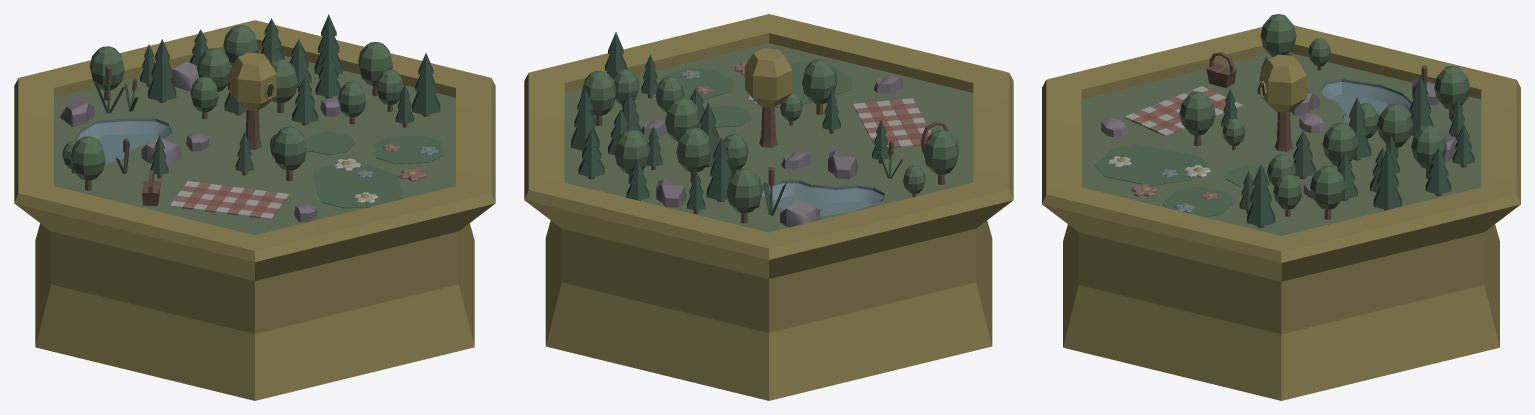
The model's file is WarTable.fbx.
The picture shows the model from 3 angles, left to right: view 1: azimuth 30°, elevation 25°; view 2: azimuth 150°, elevation 25°; view 3: azimuth 270°, elevation 25°; orthographic projection. The views are drawn at different scales.
Visible parts, largest first — view 1: WarTable; view 2: WarTable; view 3: WarTable.
Boxes of the visible parts, left/top/right/bottom form: WarTable: left=14, top=14, right=495, bottom=400; WarTable: left=524, top=14, right=1013, bottom=400; WarTable: left=1042, top=14, right=1520, bottom=400.
Size of the model in its own units: 9.18 by 4.27 by 7.95.
